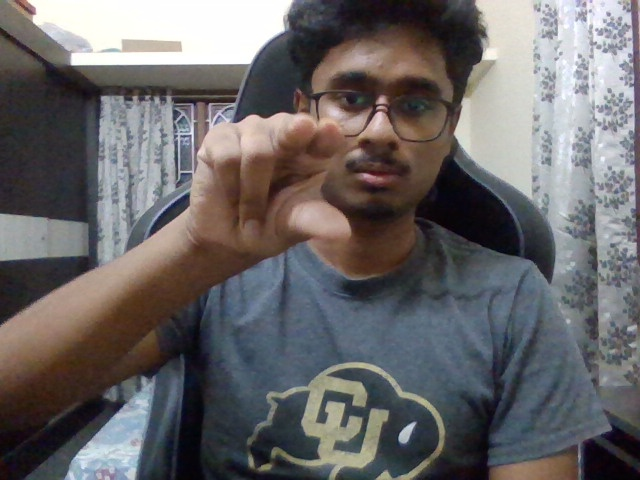no: (155, 99, 364, 291)
